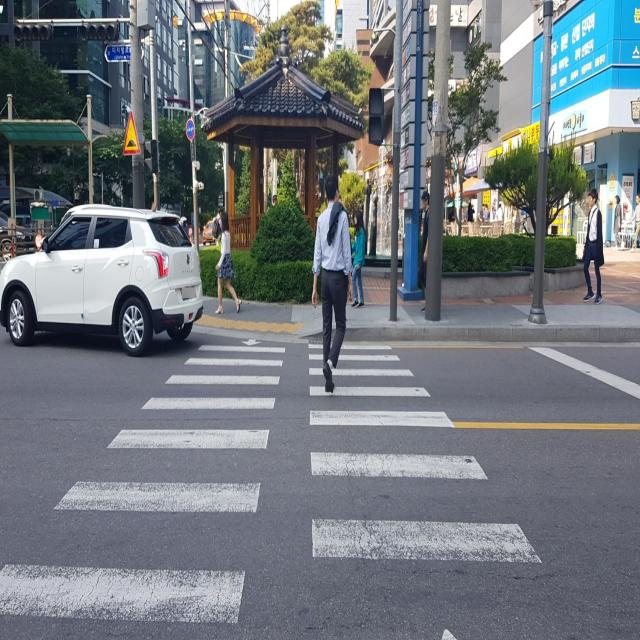횡단보도: (0, 328, 547, 640)
